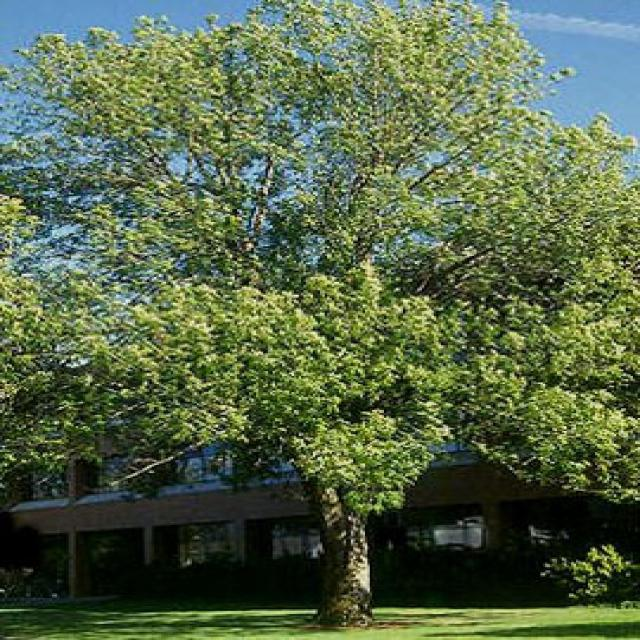Fraxinus latifolia: (24, 5, 632, 612)
